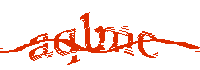a: (27, 31, 53, 60)
c: (137, 27, 163, 61)
l: (78, 9, 96, 52)
m: (96, 24, 134, 56)
q: (54, 28, 81, 66)
